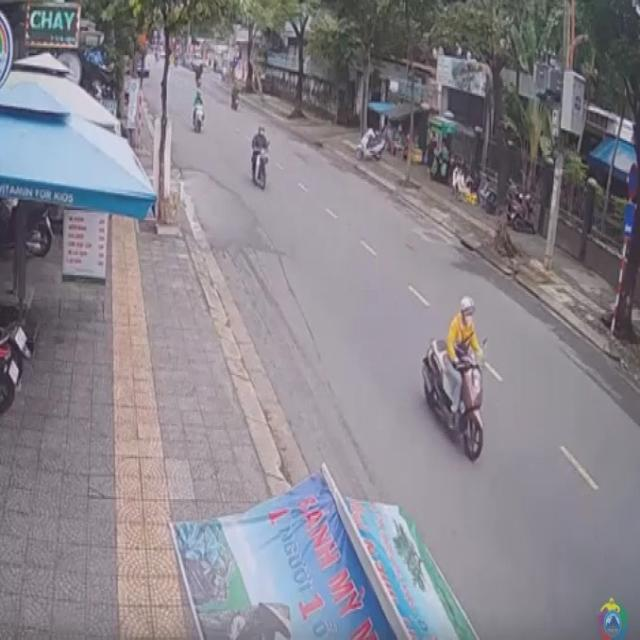motorbike: (425, 296, 486, 460), (250, 123, 270, 191)
